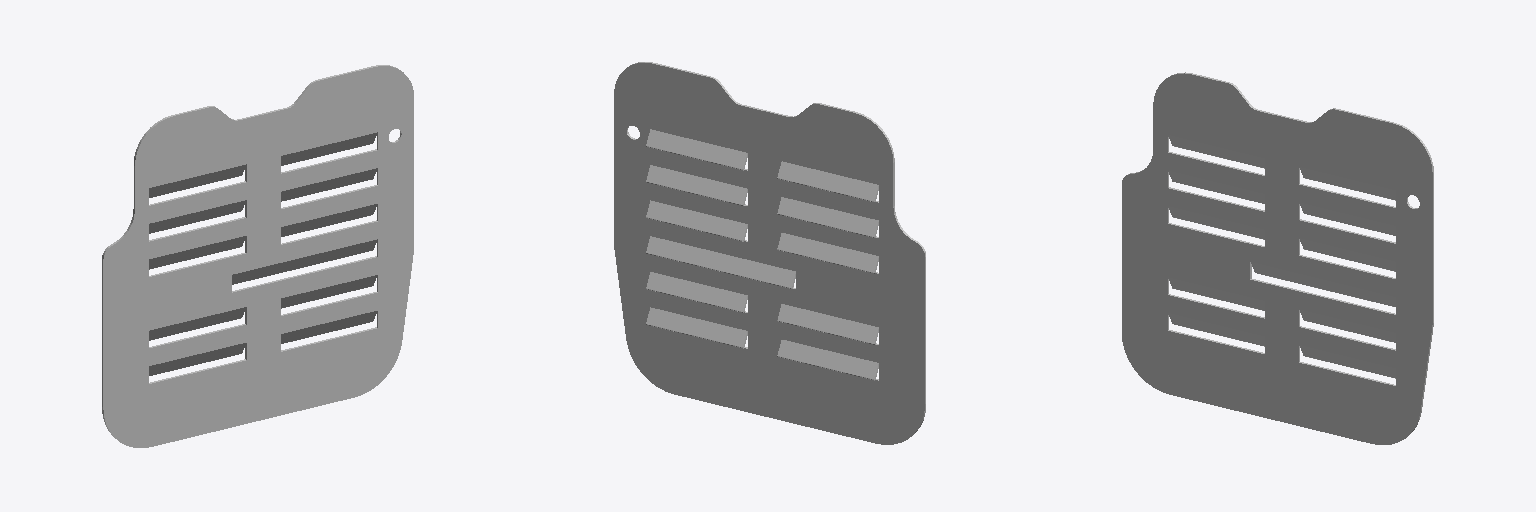
Rendered from 65. Грязеуловитель.obj.
The picture shows the model from 3 angles: view 1: azimuth 30°, elevation 25°; view 2: azimuth 150°, elevation 25°; view 3: azimuth 330°, elevation 25°; orthographic projection.
Visible parts, largest first — view 1: Твердое тело1; view 2: Твердое тело1; view 3: Твердое тело1.
Boxes of the visible parts, <box> form: Твердое тело1: <box>102,65,413,447</box>; Твердое тело1: <box>614,62,925,444</box>; Твердое тело1: <box>1122,72,1433,444</box>.
Size of the model in its own units: 128 by 128 by 4.1.